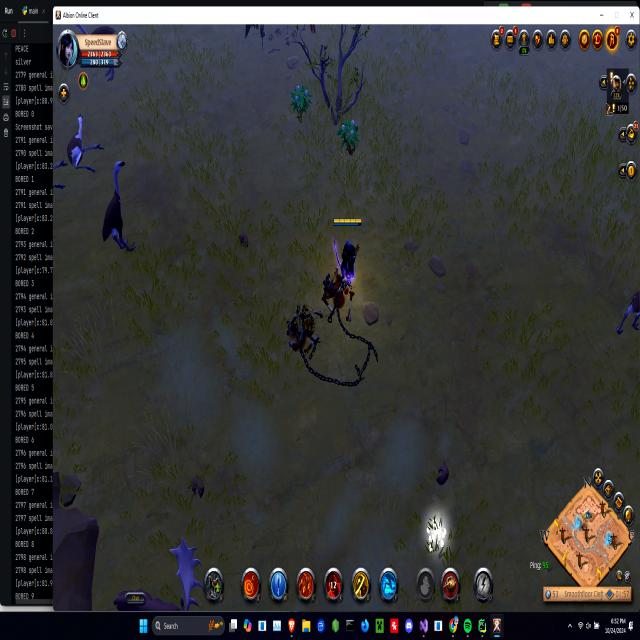hide: (337, 114, 361, 160), (289, 80, 312, 126)
mob: (65, 107, 107, 183)
ore: (109, 535, 204, 607), (98, 157, 139, 254)
red: (329, 212, 364, 293)
